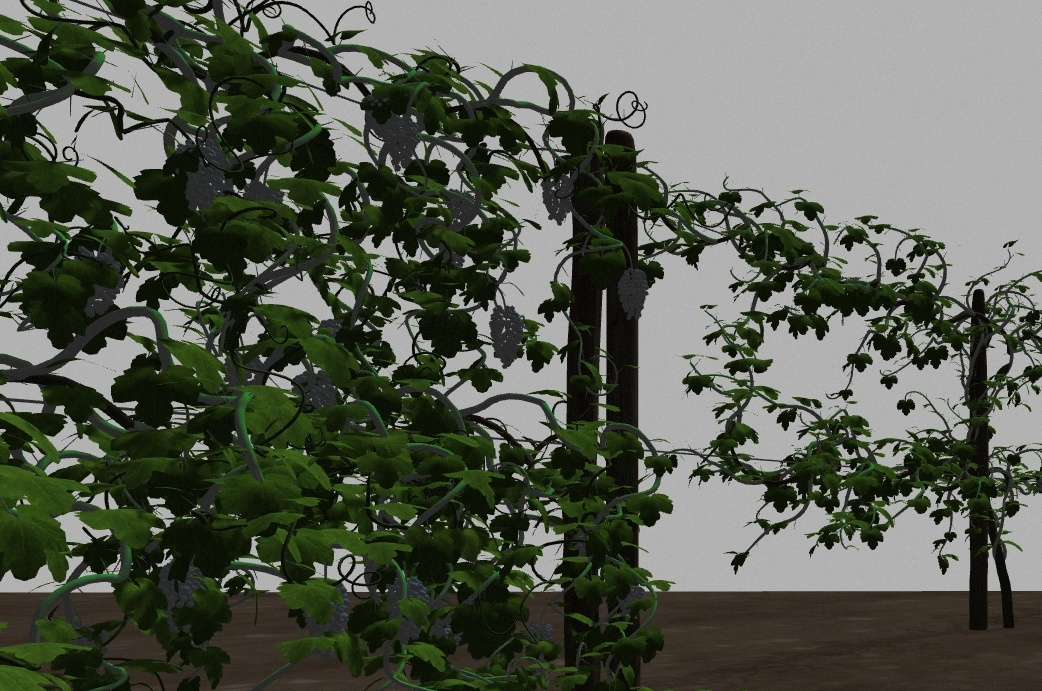grape: (180, 137, 225, 214), (305, 582, 349, 660), (156, 564, 203, 631), (387, 579, 429, 642), (489, 306, 527, 368), (382, 115, 422, 171), (539, 169, 577, 226), (291, 372, 340, 409), (617, 269, 651, 321)
